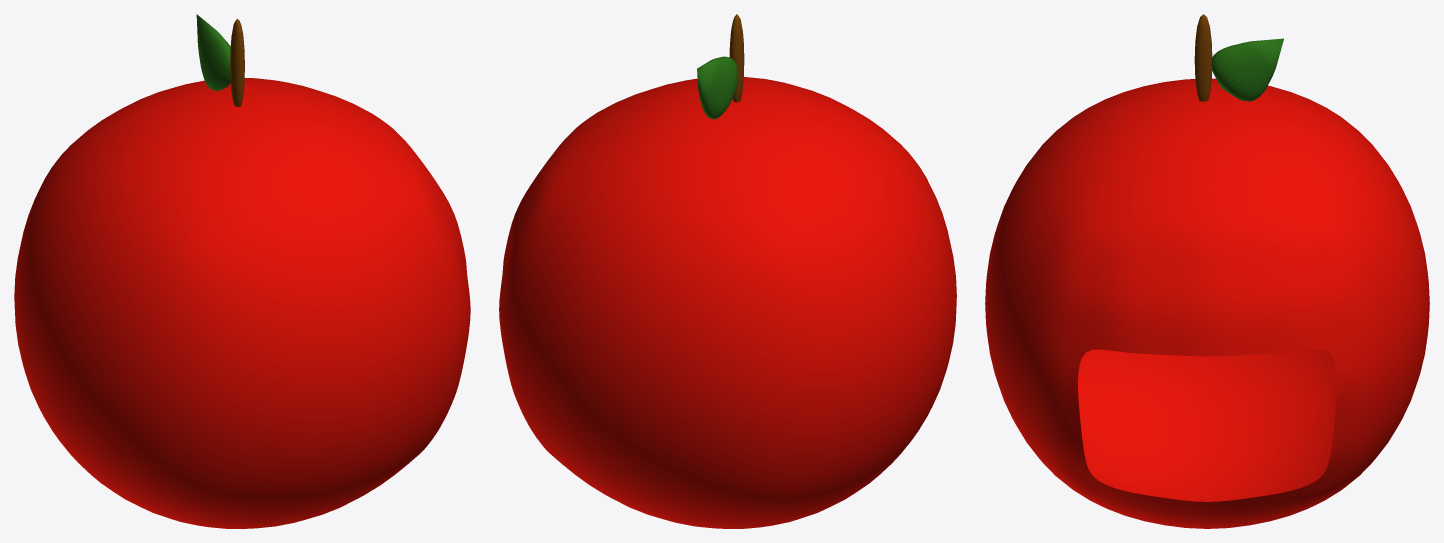
Rendered from apple.fbx.
The picture shows the model from 3 angles, left to right: view 1: azimuth 30°, elevation 25°; view 2: azimuth 150°, elevation 25°; view 3: azimuth 270°, elevation 25°; orthographic projection.
Parts seen in each view (by area): view 1: 円錐; view 2: 円錐; view 3: 円錐.
Boxes of the visible parts, bbox=[...] form: 円錐: bbox=[14, 14, 470, 528]; 円錐: bbox=[499, 14, 956, 528]; 円錐: bbox=[985, 14, 1429, 528].
Size of the model in its own units: 160 by 194 by 160.
